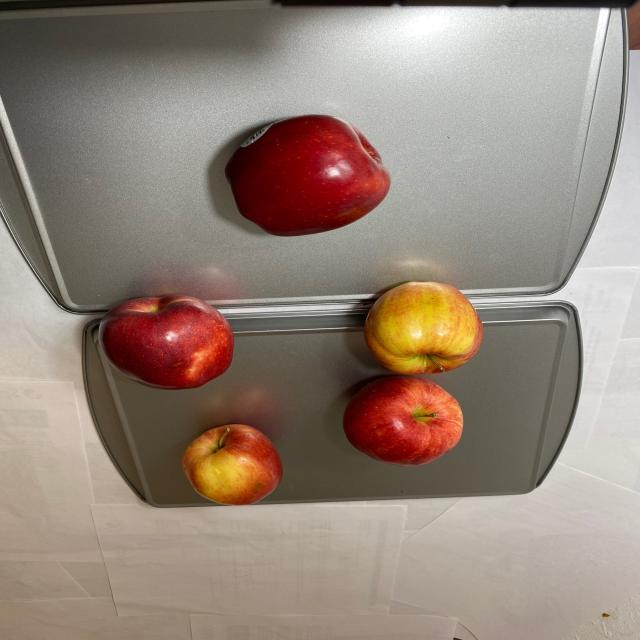apple: (95, 108, 483, 506)
